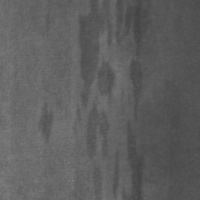inclusion: (73, 1, 145, 127), (111, 119, 148, 199), (83, 103, 110, 199), (37, 93, 56, 145)
